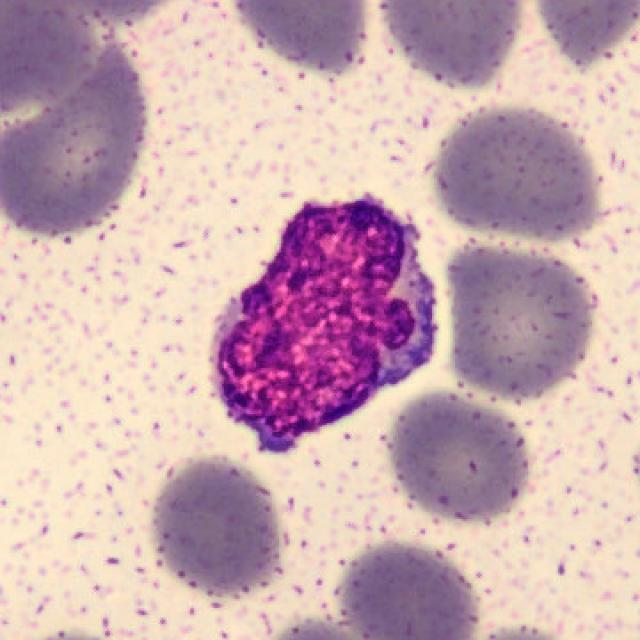Mieloblasto: (212, 197, 436, 453)
